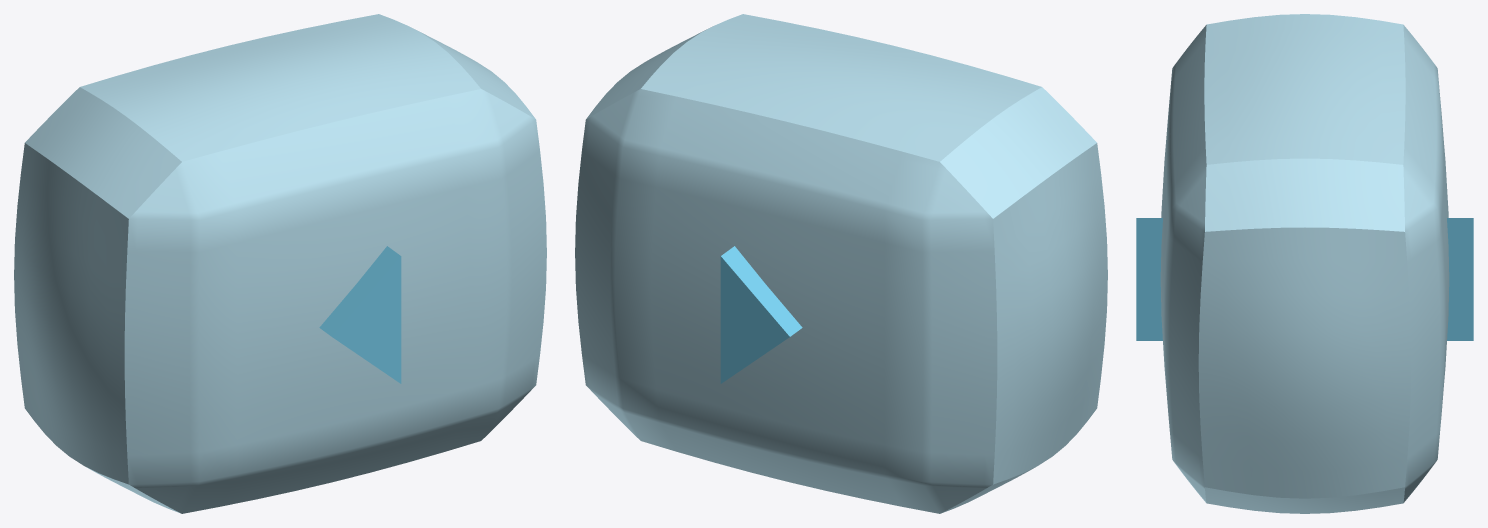
The model's file is play_button_animation_frame7.fbx.
3 views of the same model, side by side, from view 1: azimuth 30°, elevation 25°; view 2: azimuth 150°, elevation 25°; view 3: azimuth 270°, elevation 25° (orthographic). The views are drawn at different scales.
Parts seen in each view (by area): view 1: Button, Triangle; view 2: Button, Triangle; view 3: Button, Triangle.
Part boxes in pixels (bbox=[...]): Button: bbox=[14, 14, 546, 513]; Triangle: bbox=[319, 246, 401, 383]; Button: bbox=[575, 14, 1107, 513]; Triangle: bbox=[720, 246, 802, 383]; Button: bbox=[1160, 14, 1449, 513]; Triangle: bbox=[1136, 218, 1473, 340].
Bounding box in the file's own units: 369 × 296 × 245.
